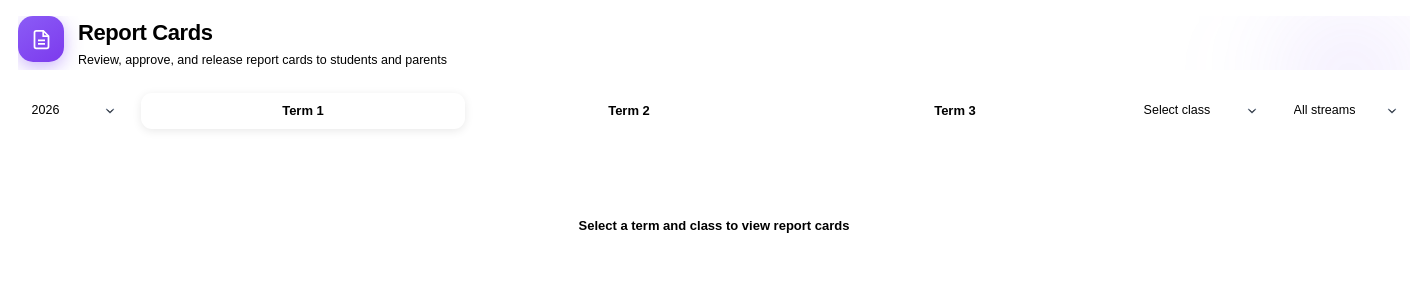
Scenario: PrincipalReportCardsPage › renders a report card row with Approve button when status is ready
The width and height of the screenshot is (1413, 301).
Select "S.1" in the 2nd dropdown. click: [1200, 111]
box: [1130, 93, 1270, 129]
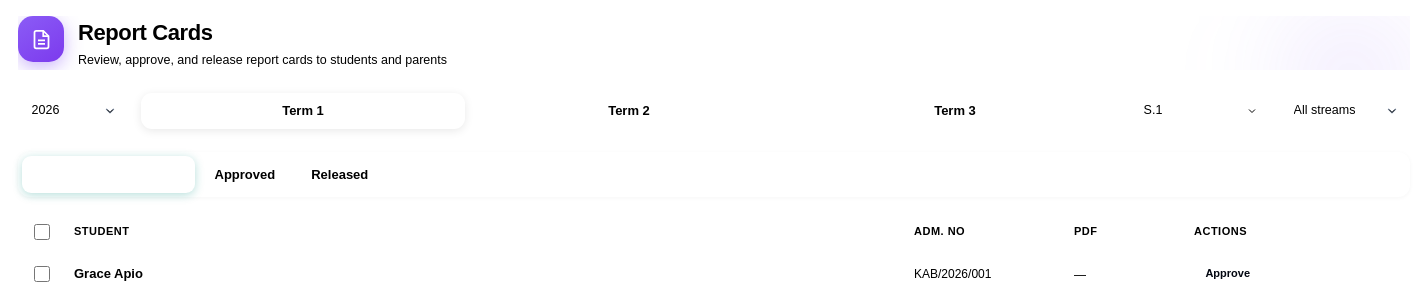
Now the text "Grace Apio" is shown, box [74, 266, 143, 281]
Now the button "Approve" is shown, box [1194, 263, 1261, 285]
